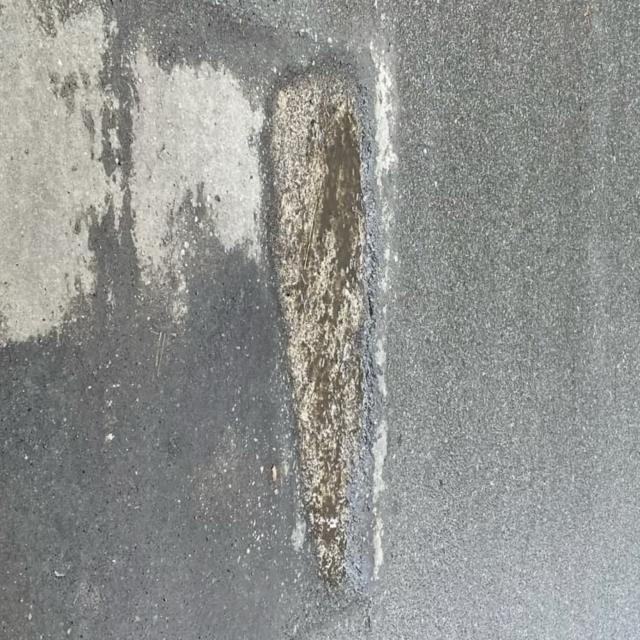pothole: (214, 44, 456, 629)
